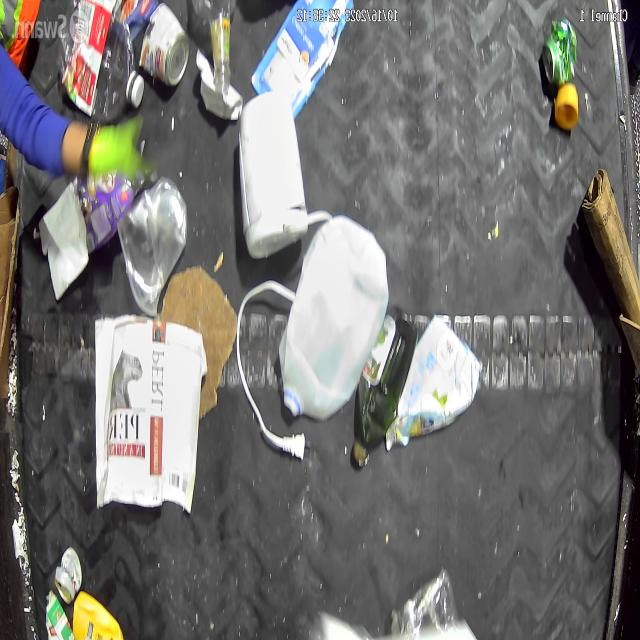can: (138, 3, 190, 88), (542, 15, 578, 86), (54, 546, 81, 606)
milk_jug: (279, 212, 390, 423)
non_white_jug: (72, 590, 124, 640)
plastic_bottle: (56, 0, 144, 123), (192, 0, 236, 93)
